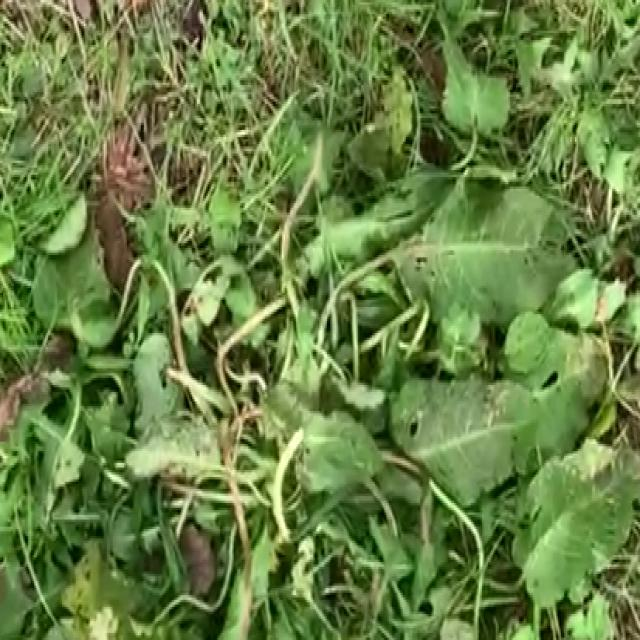organic waste: (25, 99, 640, 640)
